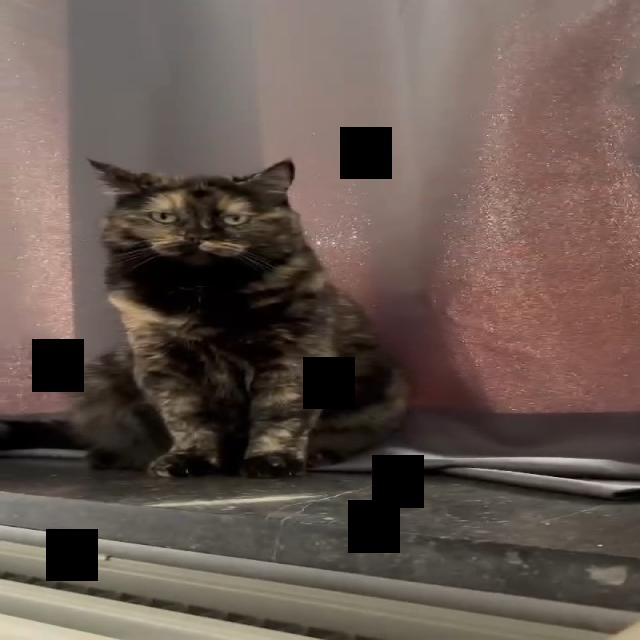authorized: (68, 156, 411, 479)
